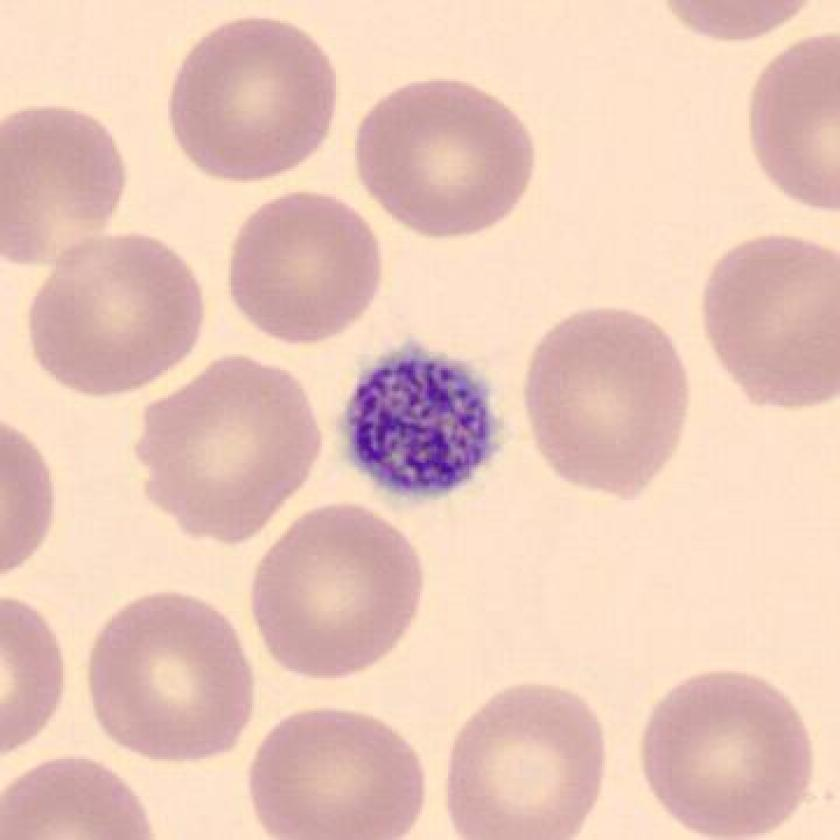platelets: (337, 346, 505, 508)
